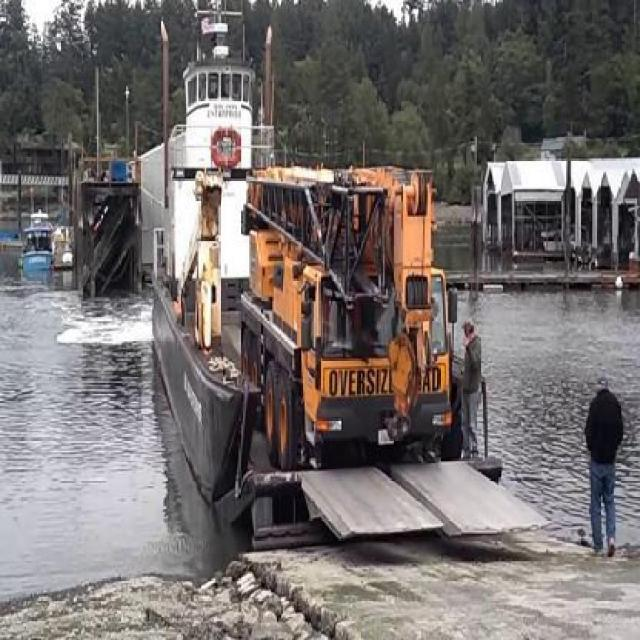Mobile Crane: (242, 166, 449, 457)
